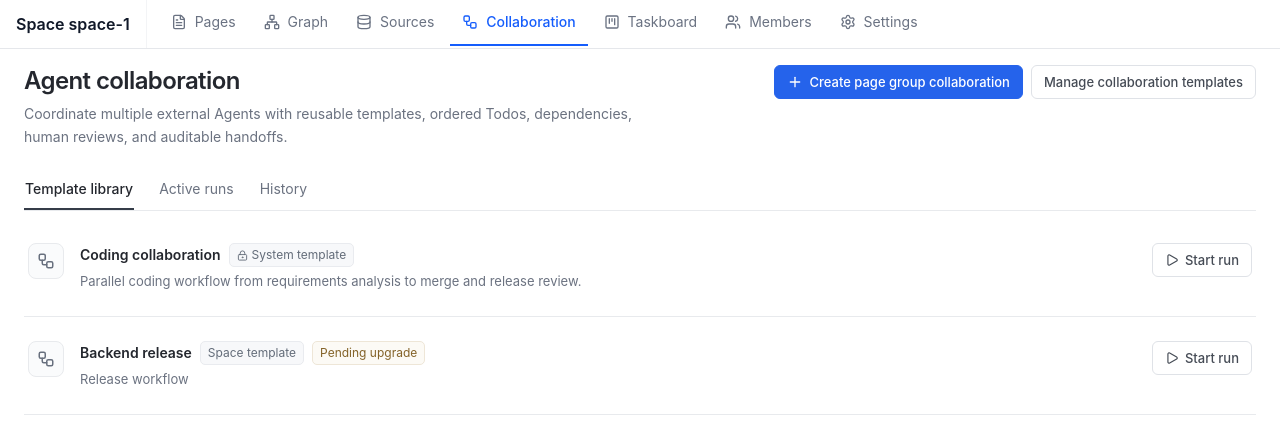
CollaborationWorkspace › loads the next server-filtered Run page without truncating after the first 100
Expected: the heading "Coding collaboration" is shown, [80,243,221,267]
Click the tab "Active runs". click: (196, 189)
box: [158,168,235,210]
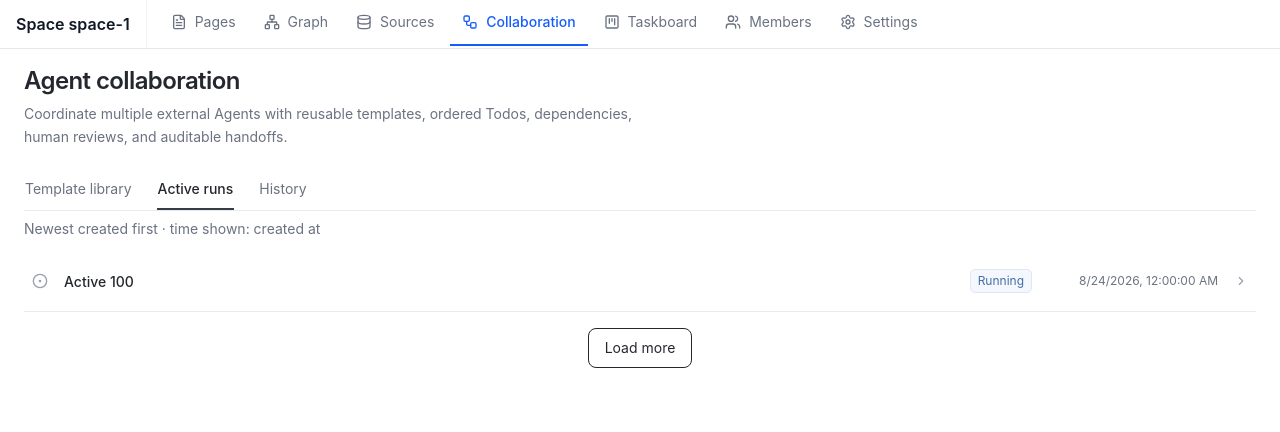
Expected: the text "Active 100" is shown, [64,273,134,290]
Click the button "Load more". click: (640, 348)
box: [588,328,692,368]
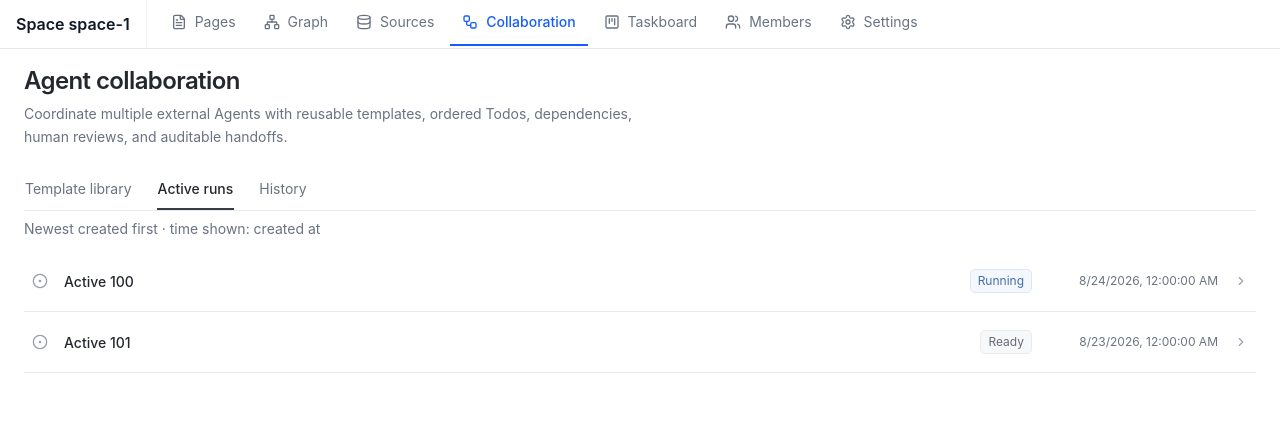
Expected: the text "Active 100" is shown, [64,273,134,290]
Expected: the text "Active 101" is shown, [64,334,131,351]
Expected: the button "Load more" is gone
